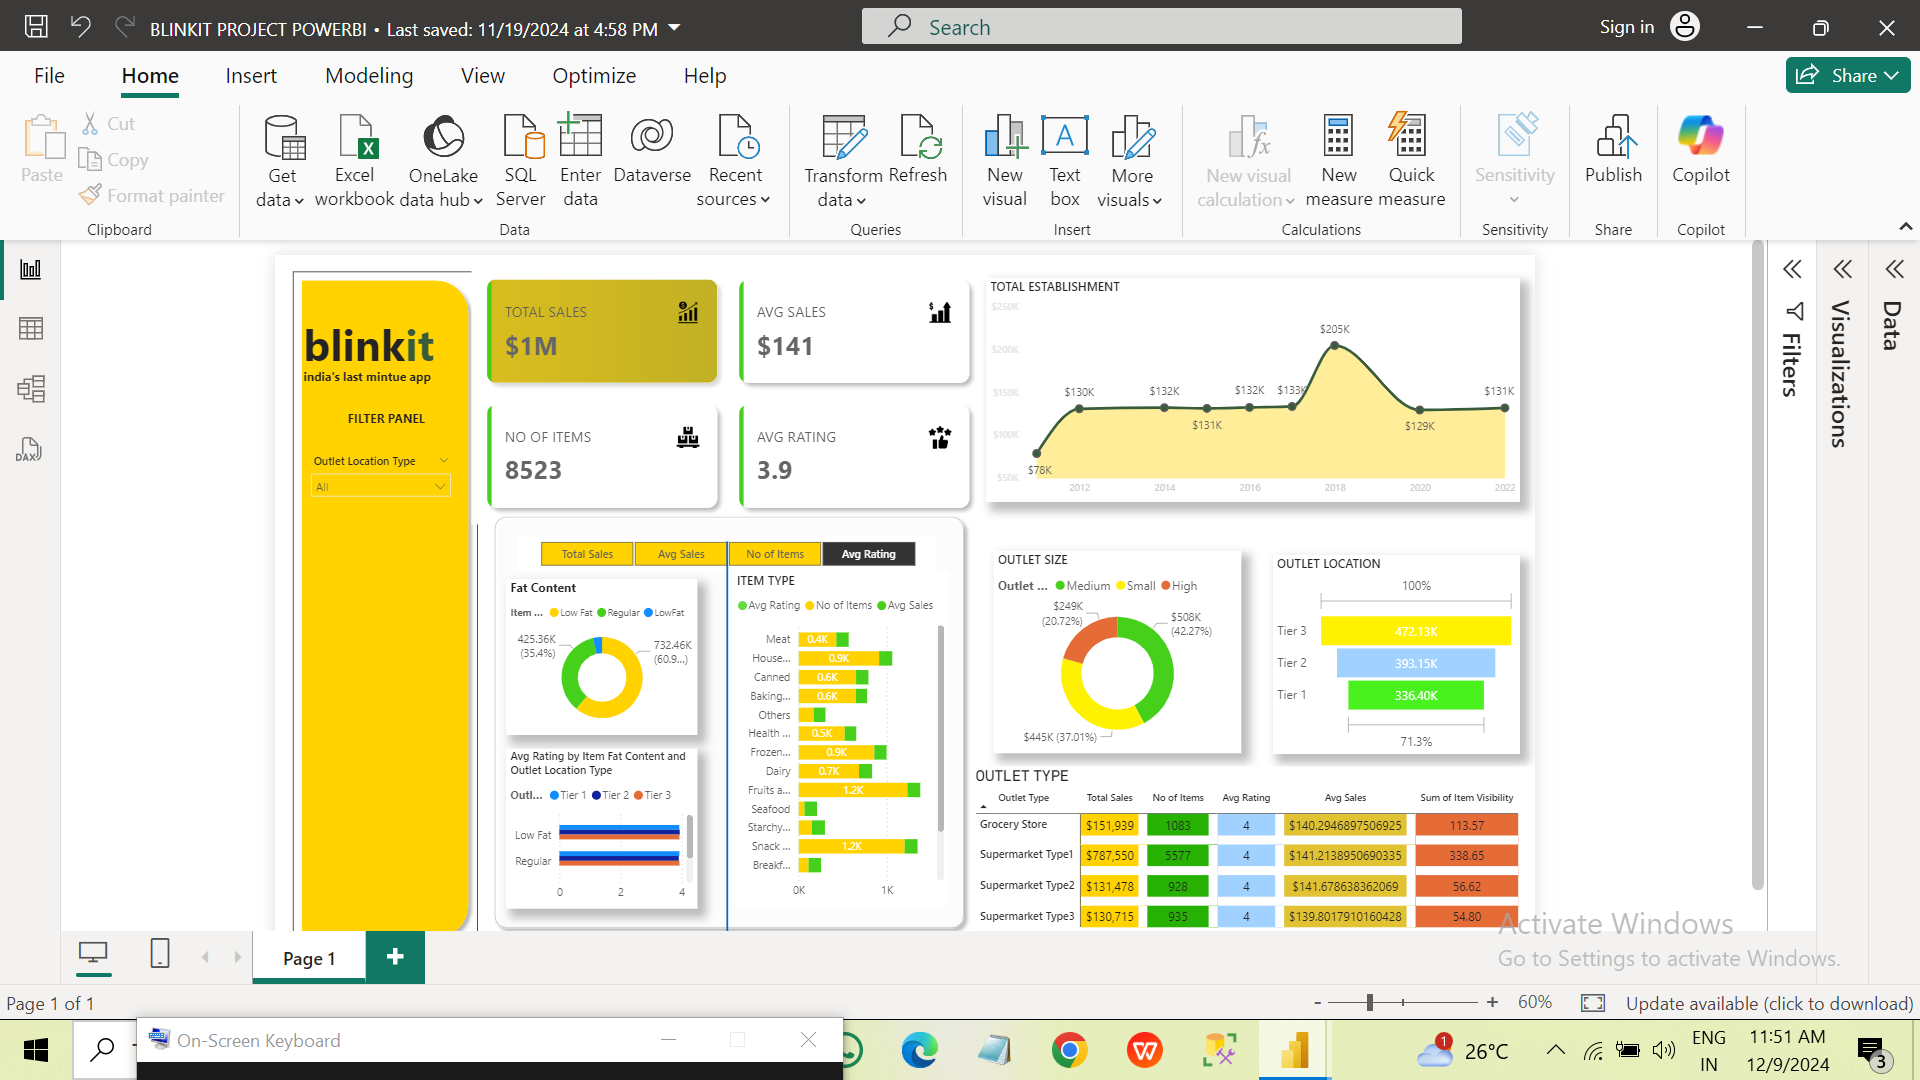

The page's visual inventory and layout, read from the dashboard file:
{"tool":"powerbi","page":{"name":"Page 1","canvas":[1400,800],"ordinal":0},"visuals":[{"type":"shape","box":[20.1,18.1,205.4,751],"z":0},{"type":"textbox","box":[26.9,59.9,192.2,78.5],"z":1000},{"type":"textbox","box":[26.9,119.9,181.9,35.1],"z":2000},{"type":"cardVisual","fields":{"Data":["BlinkIT Grocery Data.Total Sales","BlinkIT Grocery Data.Avg Sales","BlinkIT Grocery Data.No of Items","BlinkIT Grocery Data.Avg Rating"]},"box":[219.1,10.3,570.5,289.4],"z":3000},{"type":"shape","box":[235.6,281.1,539.5,475.4],"z":4000},{"type":"donutChart","title":"Fat Content","fields":{"Y":["Sum(BlinkIT Grocery Data.Sales)"],"Category":["BlinkIT Grocery Data.Item Fat Content"]},"box":[256.3,359.6,212.9,173.6],"z":5000},{"type":"slicer","fields":{"Values":["metrics.metrics"]},"box":[270.8,312.1,465.1,40],"z":6000},{"type":"clusteredBarChart","fields":{"Y":["BlinkIT Grocery Data.Avg Rating"],"Category":["BlinkIT Grocery Data.Item Fat Content"],"Series":["BlinkIT Grocery Data.Outlet Location Type"]},"box":[256.3,547.7,212.9,177.8],"z":7000},{"type":"shape","box":[219.1,318.3,568.4,440],"z":8000},{"type":"barChart","title":"ITEM TYPE","fields":{"Y":["BlinkIT Grocery Data.Avg Rating","BlinkIT Grocery Data.No of Items","BlinkIT Grocery Data.Avg Sales"],"Category":["BlinkIT Grocery Data.Item Type"]},"box":[508.5,351.4,240,372],"z":9000},{"type":"lineChart","title":"TOTAL ESTABLISHMENT","fields":{"Y":["BlinkIT Grocery Data.Total Sales"],"Category":["BlinkIT Grocery Data.Outlet Establishment Year"]},"box":[789.6,24.8,593.2,250],"z":10000},{"type":"donutChart","title":"OUTLET SIZE","fields":{"Y":["BlinkIT Grocery Data.Total Sales"],"Category":["BlinkIT Grocery Data.Outlet Size"]},"box":[797.8,328.6,275,225],"z":12000},{"type":"funnel","title":"OUTLET LOCATION","fields":{"Y":["Sum(BlinkIT Grocery Data.Sales)"],"Category":["BlinkIT Grocery Data.Outlet Location Type"]},"box":[1107.9,332.8,274.9,221.2],"z":13000},{"type":"pivotTable","title":"OUTLET TYPE","fields":{"Values":["BlinkIT Grocery Data.Total Sales","BlinkIT Grocery Data.No of Items","BlinkIT Grocery Data.Avg Rating","BlinkIT Grocery Data.Avg Sales","Sum(BlinkIT Grocery Data.Item Visibility)"],"Rows":["BlinkIT Grocery Data.Outlet Type"]},"box":[772.8,567.9,626.9,220.6],"z":14000},{"type":"slicer","fields":{"Values":["BlinkIT Grocery Data.Outlet Location Type"]},"box":[30.2,215.4,175.2,58.4],"z":15000},{"type":"textbox","box":[29.5,166.7,187.6,36.5],"z":15001}]}

Visuals, with their boxes on the page's 1400x800 design canvas (x1, y1, x2, y2). These are canvas units, not pixel positions in the 1920x1080 screenshot, which may show the page scaled, cropped or inside an application window:
shape: {"x1": 20, "y1": 18, "x2": 226, "y2": 769}
textbox: {"x1": 27, "y1": 60, "x2": 219, "y2": 138}
textbox: {"x1": 27, "y1": 120, "x2": 209, "y2": 155}
cardVisual - BlinkIT Grocery Data.Total Sales x BlinkIT Grocery Data.Avg Sales: {"x1": 219, "y1": 10, "x2": 790, "y2": 300}
shape: {"x1": 236, "y1": 281, "x2": 775, "y2": 756}
"Fat Content" donutChart: {"x1": 256, "y1": 360, "x2": 469, "y2": 533}
slicer - metrics.metrics: {"x1": 271, "y1": 312, "x2": 736, "y2": 352}
clusteredBarChart - BlinkIT Grocery Data.Avg Rating x BlinkIT Grocery Data.Item Fat Content: {"x1": 256, "y1": 548, "x2": 469, "y2": 726}
shape: {"x1": 219, "y1": 318, "x2": 788, "y2": 758}
"ITEM TYPE" barChart: {"x1": 508, "y1": 351, "x2": 748, "y2": 723}
"TOTAL ESTABLISHMENT" lineChart: {"x1": 790, "y1": 25, "x2": 1383, "y2": 275}
"OUTLET SIZE" donutChart: {"x1": 798, "y1": 329, "x2": 1073, "y2": 554}
"OUTLET LOCATION" funnel: {"x1": 1108, "y1": 333, "x2": 1383, "y2": 554}
"OUTLET TYPE" pivotTable: {"x1": 773, "y1": 568, "x2": 1400, "y2": 788}
slicer - BlinkIT Grocery Data.Outlet Location Type: {"x1": 30, "y1": 215, "x2": 205, "y2": 274}
textbox: {"x1": 30, "y1": 167, "x2": 217, "y2": 203}
